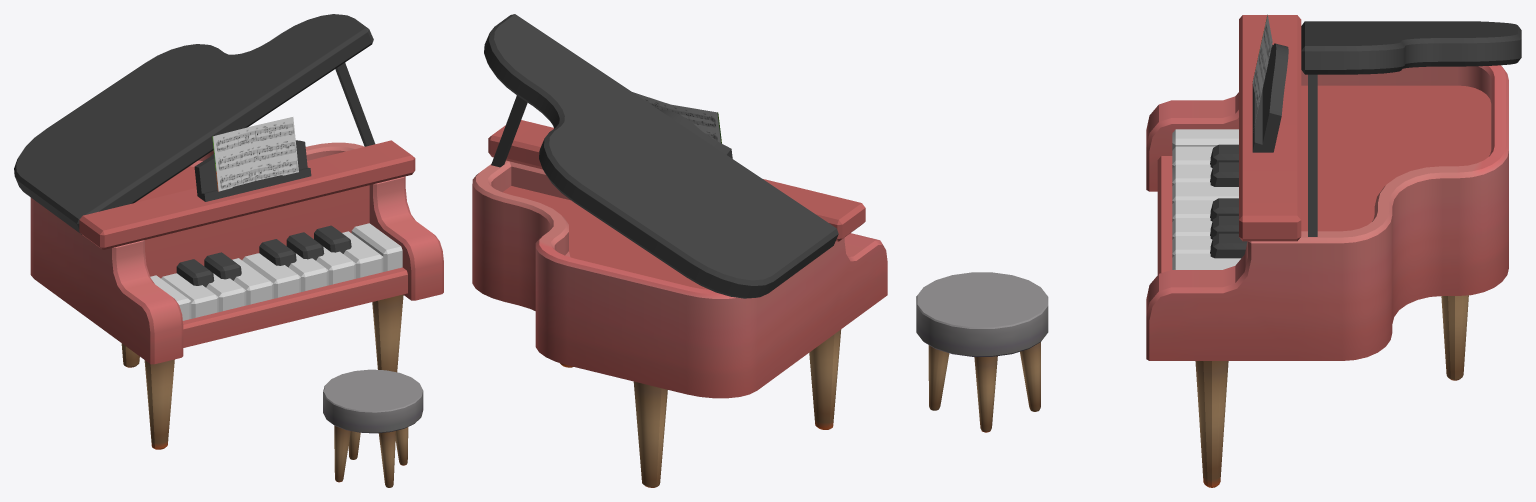
The model's file is Piano.fbx.
The picture shows the model from 3 angles, left to right: view 1: azimuth 30°, elevation 25°; view 2: azimuth 150°, elevation 25°; view 3: azimuth 270°, elevation 25°; orthographic projection. The views are drawn at different scales.
Parts seen in each view (by area): view 1: Piano, Piano_stool; view 2: Piano; view 3: Piano, Piano_stool.
Boxes of the visible parts, x1,y1,x2,y2 form: Piano: [14, 14, 443, 449]; Piano_stool: [323, 369, 423, 487]; Piano: [472, 14, 887, 487]; Piano: [1146, 14, 1521, 487]; Piano_stool: [916, 272, 1048, 432].
Bounding box in the file's own units: 138 × 141 × 173.
